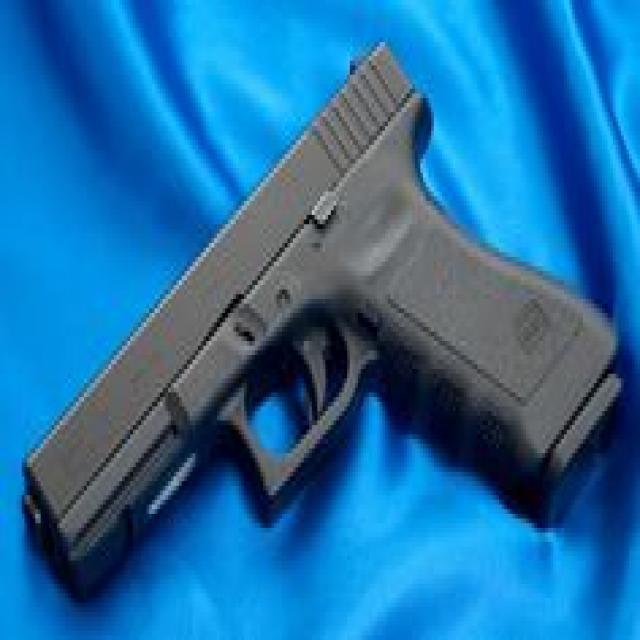semi automatic: (14, 34, 632, 628)
